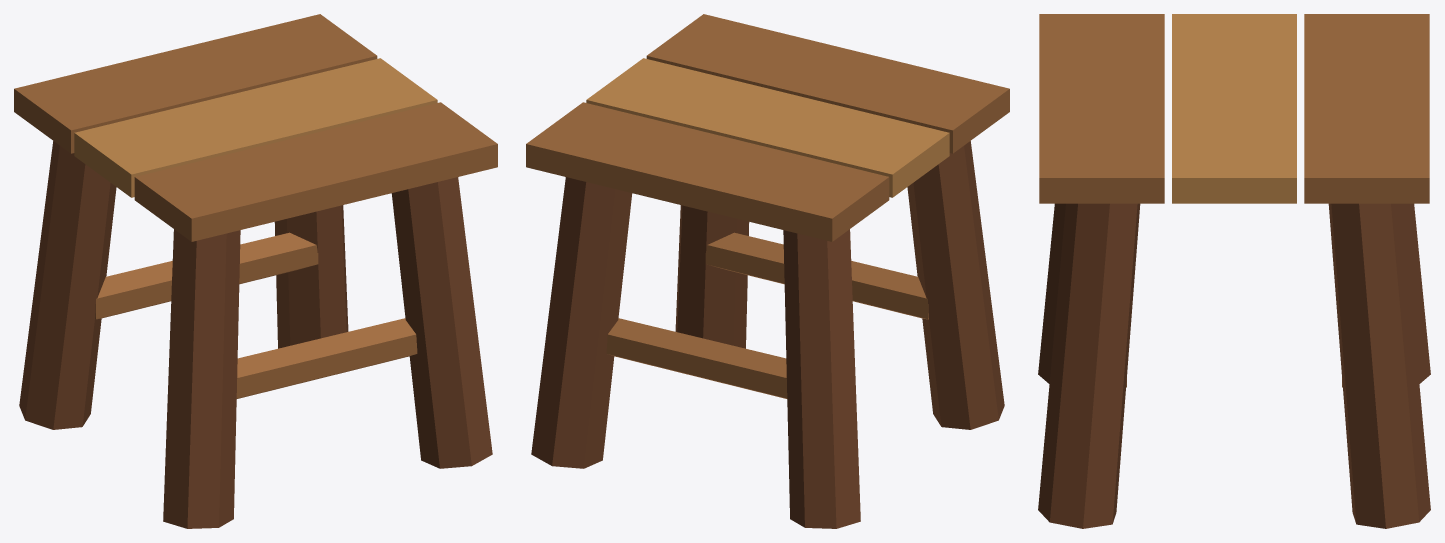
The model's file is stool.glb.
The picture shows the model from 3 angles, left to right: view 1: azimuth 30°, elevation 25°; view 2: azimuth 150°, elevation 25°; view 3: azimuth 270°, elevation 25°; orthographic projection. The views are drawn at different scales.
Parts seen in each view (by area): view 1: stool.001; view 2: stool.001; view 3: stool.001.
Boxes of the visible parts, x1=… form: stool.001: x1=14, y1=14, x2=497, y2=528; stool.001: x1=526, y1=14, x2=1009, y2=528; stool.001: x1=1038, y1=14, x2=1430, y2=528.
Bounding box in the file's own units: 0.4857 × 0.46 × 0.4648.
